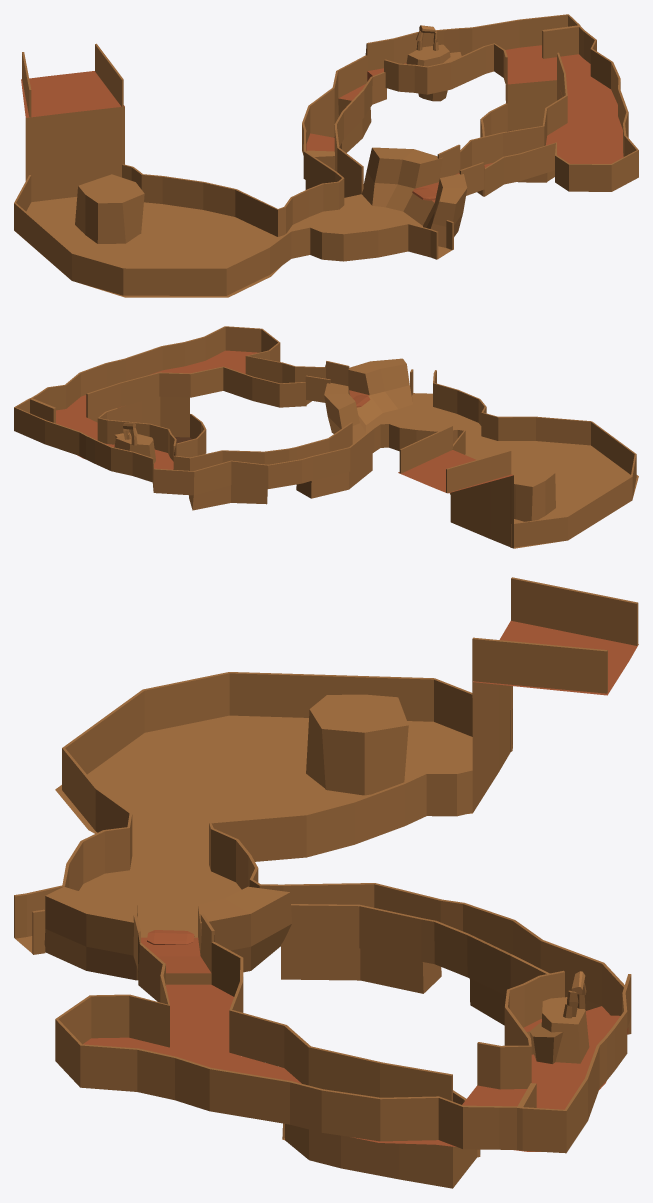
Rendered from level2Layout.fbx.
3 renders of one model, top to bottom at view 1: azimuth 30°, elevation 25°; view 2: azimuth 150°, elevation 25°; view 3: azimuth 270°, elevation 25°, orthographic. The views are drawn at different scales.
Visible parts, largest first — view 1: walls, floorLayout, largePillar; view 2: walls, floorLayout, largePillar; view 3: walls, floorLayout, largePillar.
Part boxes in pixels (left/top/right/bottom): walls: left=14, top=14, right=638, bottom=295; floorLayout: left=15, top=25, right=623, bottom=297; largePillar: left=75, top=174, right=144, bottom=243; walls: left=14, top=326, right=636, bottom=547; floorLayout: left=56, top=350, right=638, bottom=548; largePillar: left=511, top=462, right=555, bottom=521; walls: left=14, top=577, right=638, bottom=1157; floorLayout: left=15, top=621, right=638, bottom=1188; largePillar: left=306, top=694, right=408, bottom=795.
Size of the model in its own units: 18842 by 4380 by 10870.
